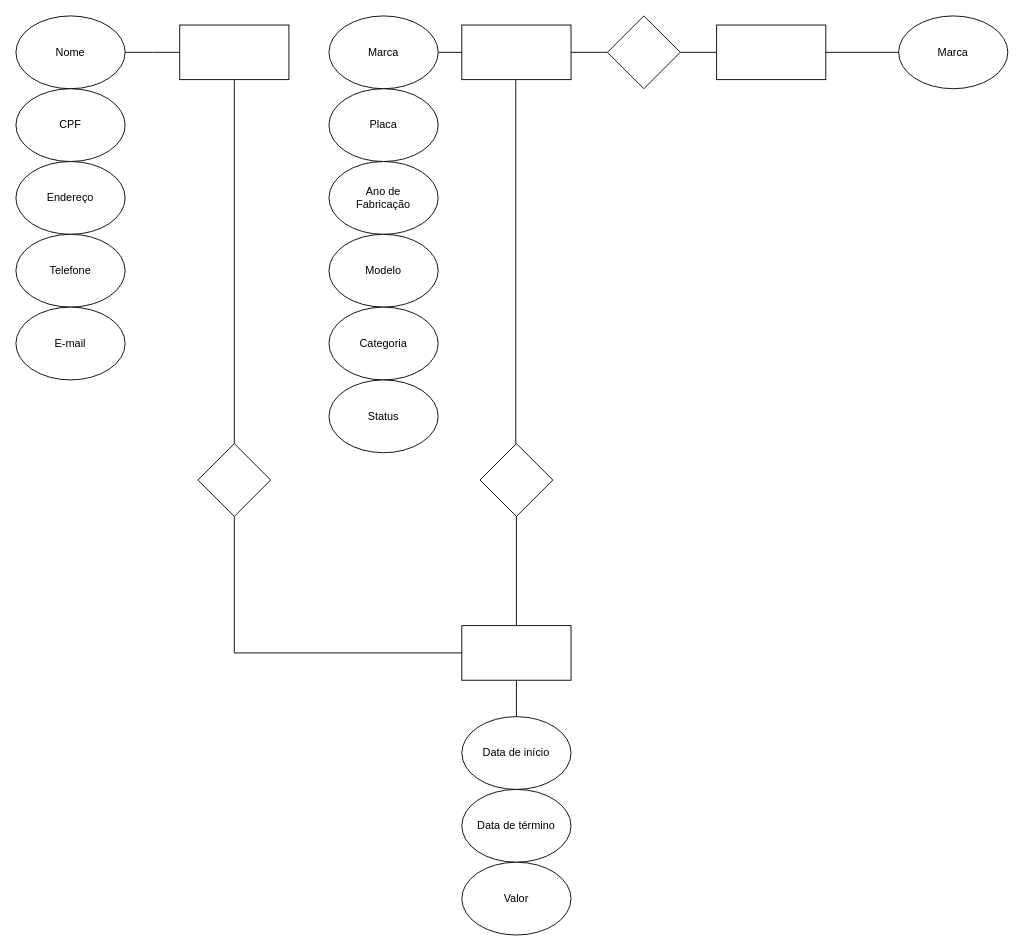
The diagram is 1024 pixels wide and 951 high, and some of its shapes have lost their labels. Here are the shapes that lost their labels. From the top down, the centre of each, then its label:
At pixel 234 52: "Cliente".
At pixel 516 52: "Veículos".
At pixel 771 52: "Manutenção dos Veículos".
At pixel 516 652: "Contrato de Locação".
